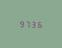nine: (18, 19, 23, 27)
seven: (24, 19, 29, 27)
six: (36, 20, 41, 28)
three: (30, 19, 35, 28)
